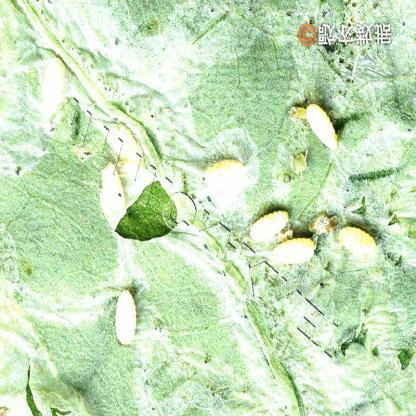whorl-maggot: (264, 235, 320, 280), (336, 216, 382, 268), (302, 97, 342, 155), (197, 156, 252, 198), (112, 286, 140, 348), (246, 209, 296, 243)
